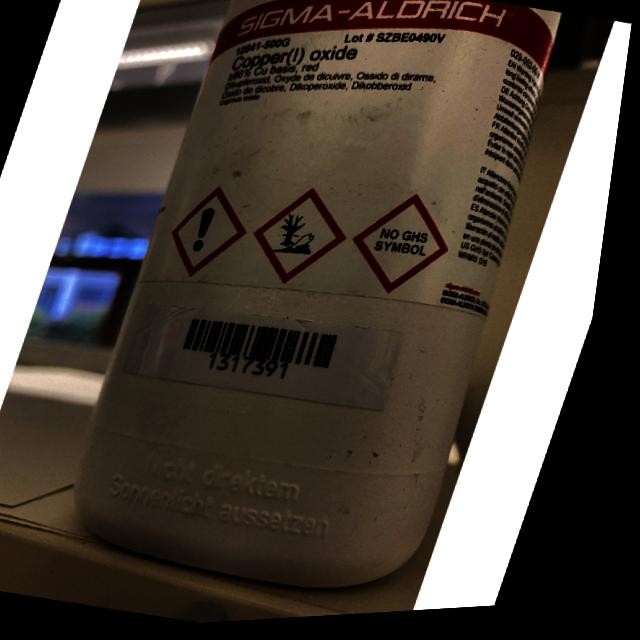hazardous to the environment: (278, 213, 331, 264)
health-ozone layer hazard: (193, 209, 223, 257)
no GHS symbol: (379, 228, 440, 266)
